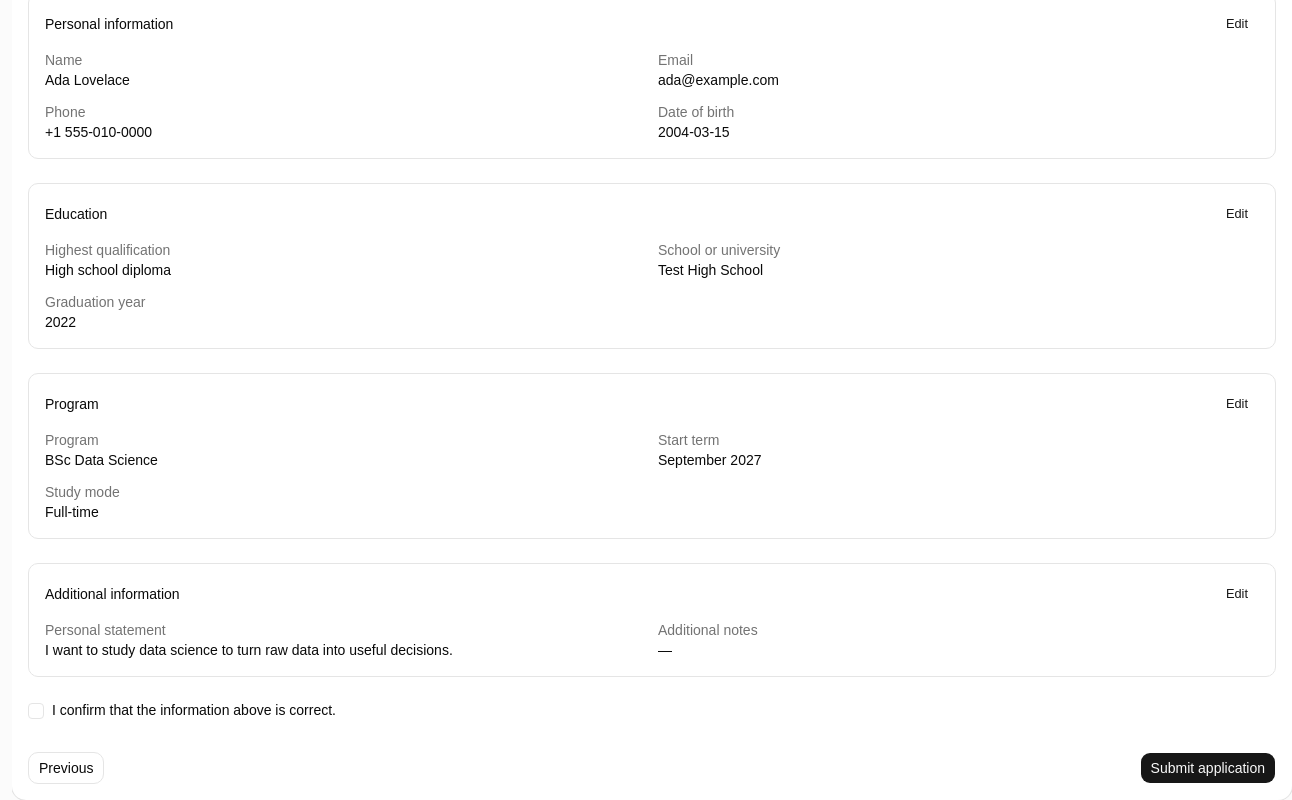
Test: ApplyPage › submits the application and clears the saved draft
(page scrolled)
Click the checkbox at (36, 711), box [28,703,44,719]
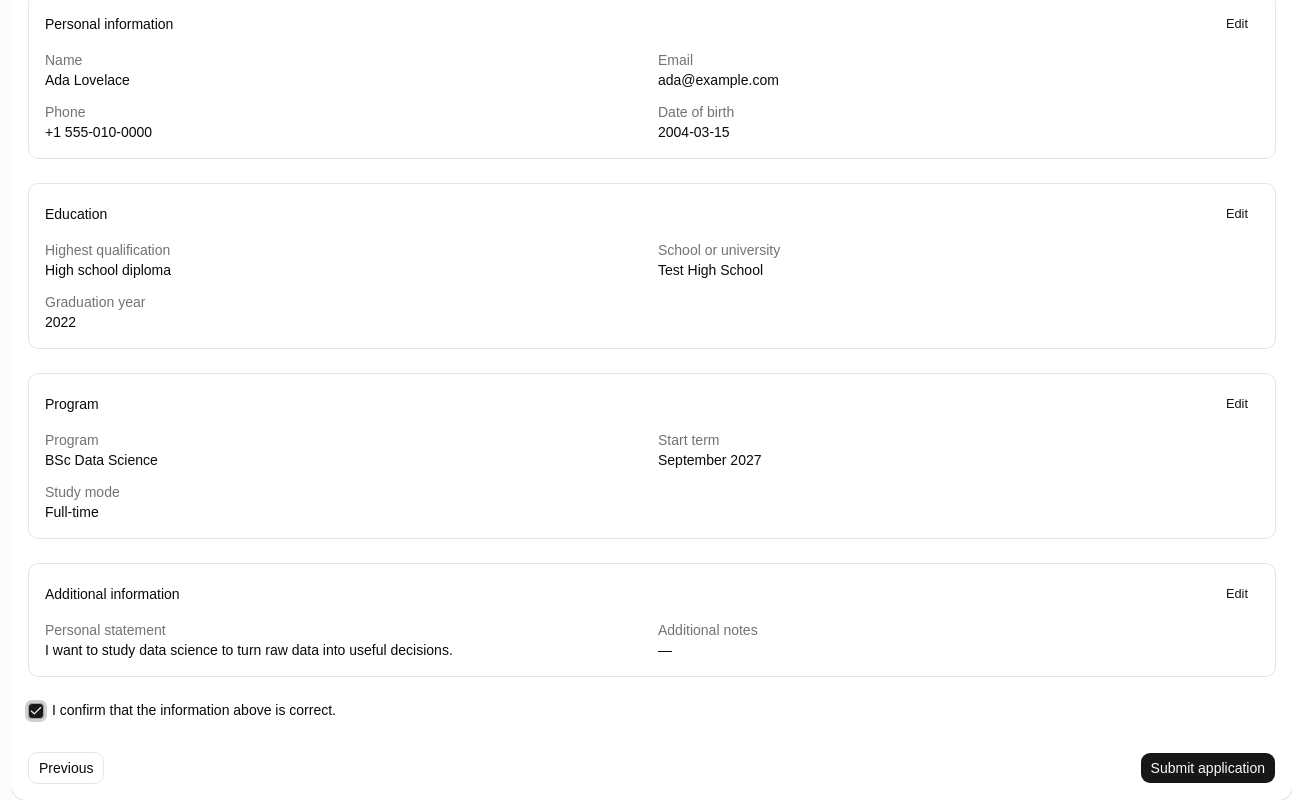
Click the button "Submit application" at (1208, 768), box [1140,752,1276,784]
(page scrolled)
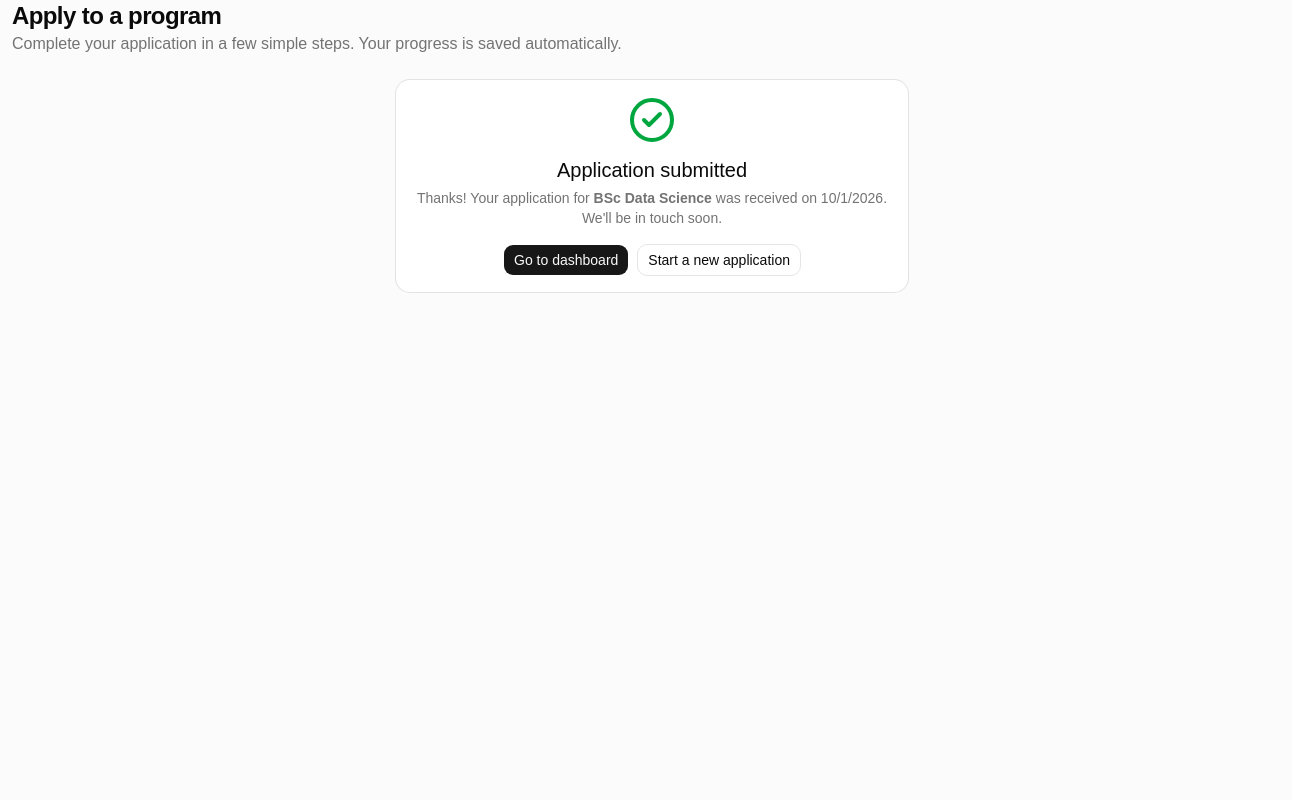
Expected: the text "BSc Data Science" is shown, [594,190,712,206]
Now the text "Application submitted" is shown, box [557,159,747,181]
